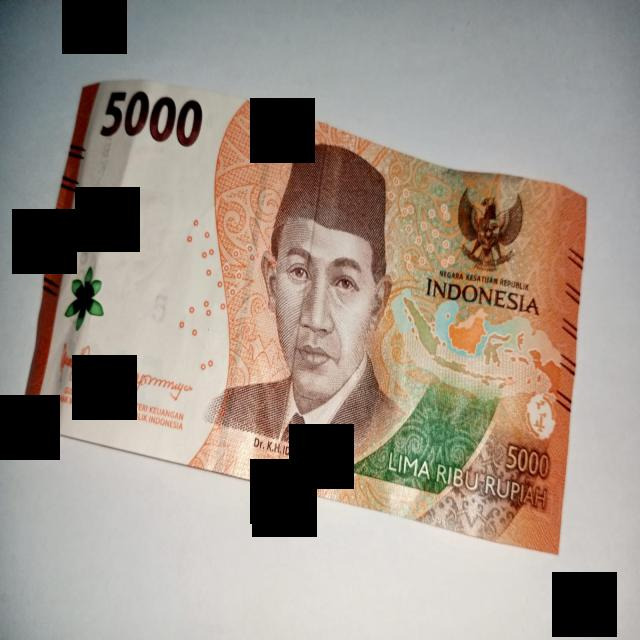lima ribu rupiah: (22, 80, 586, 552)
